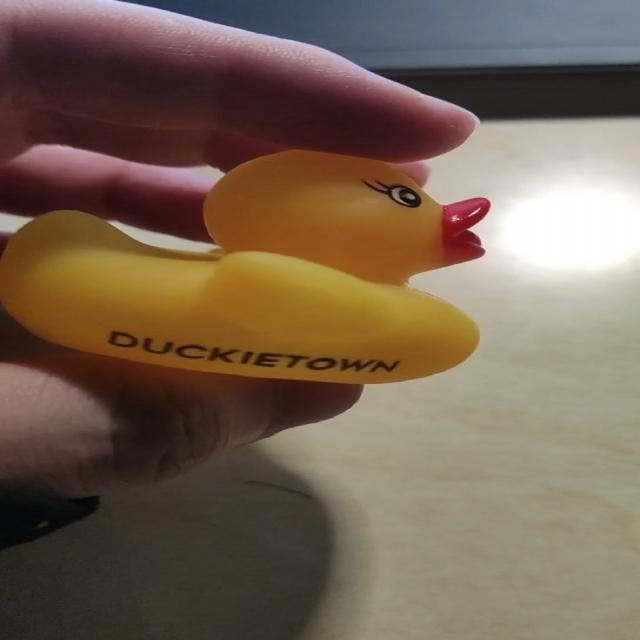rubber-duck: (0, 149, 487, 381)
